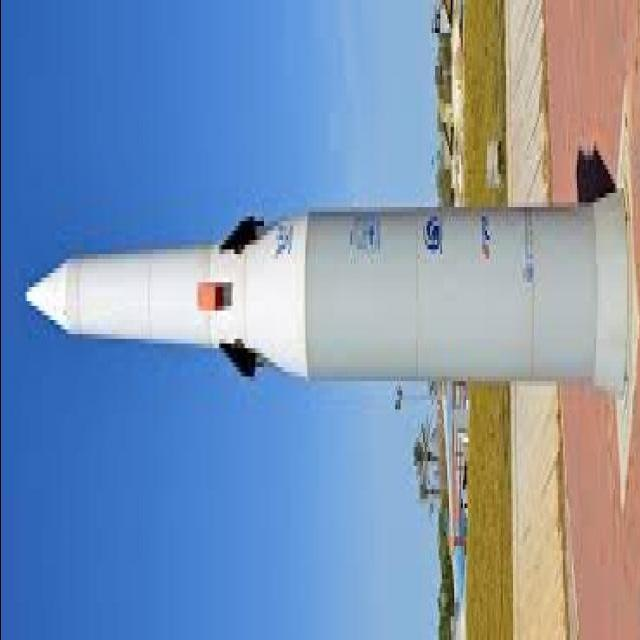missile: (19, 202, 638, 392)
